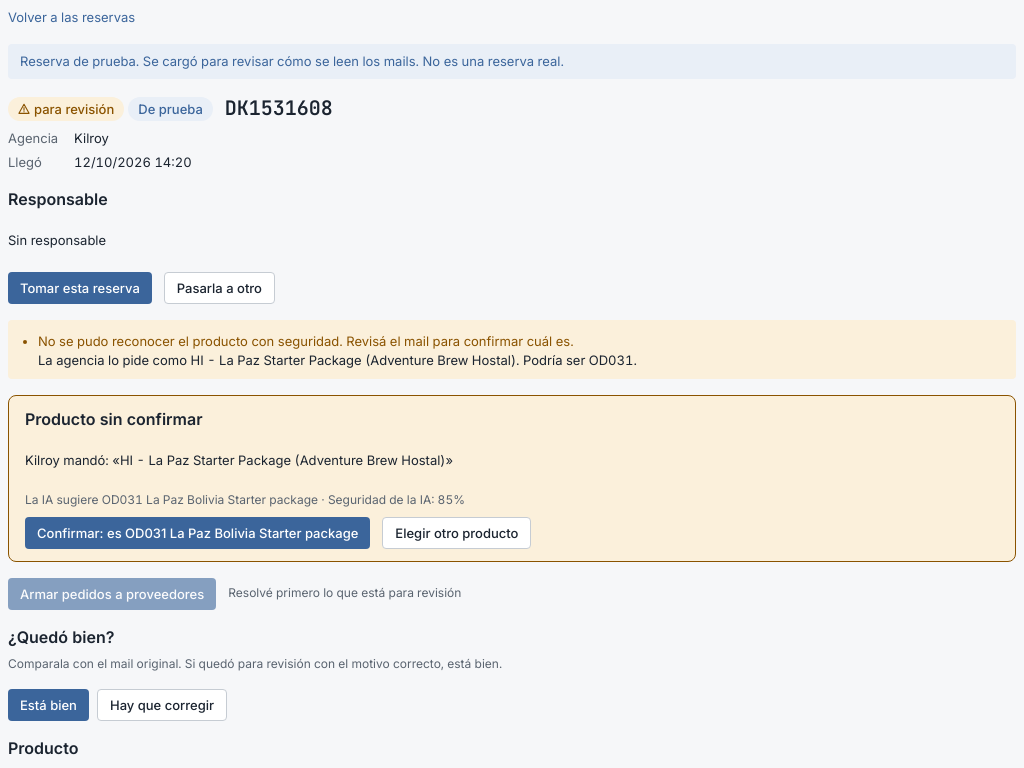
Test: M3-05 filas 3 y 9 — confirmar pide un OK y después muestra la reserva actualizada › una reserva de prueba avisa que no se guarda la equivalencia
This screenshot has width=1024, height=768.
What coordinates should you click on to do the following:
click the button "Confirmar: es OD031 La Paz Bolivia Starter package"
I would click on:
 (198, 533)
Its box is [25, 517, 370, 549].
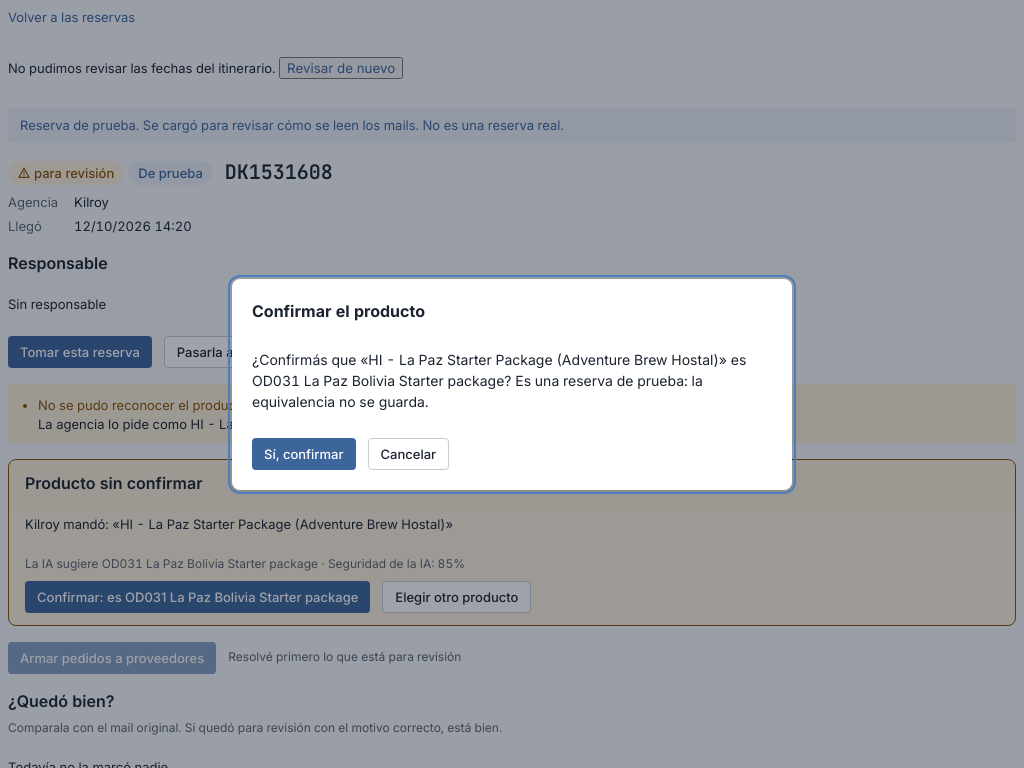
Check: the dialog "Confirmar el producto" shows "Es una reserva de prueba: la equivalencia no se guarda.", box [252, 372, 703, 410]
